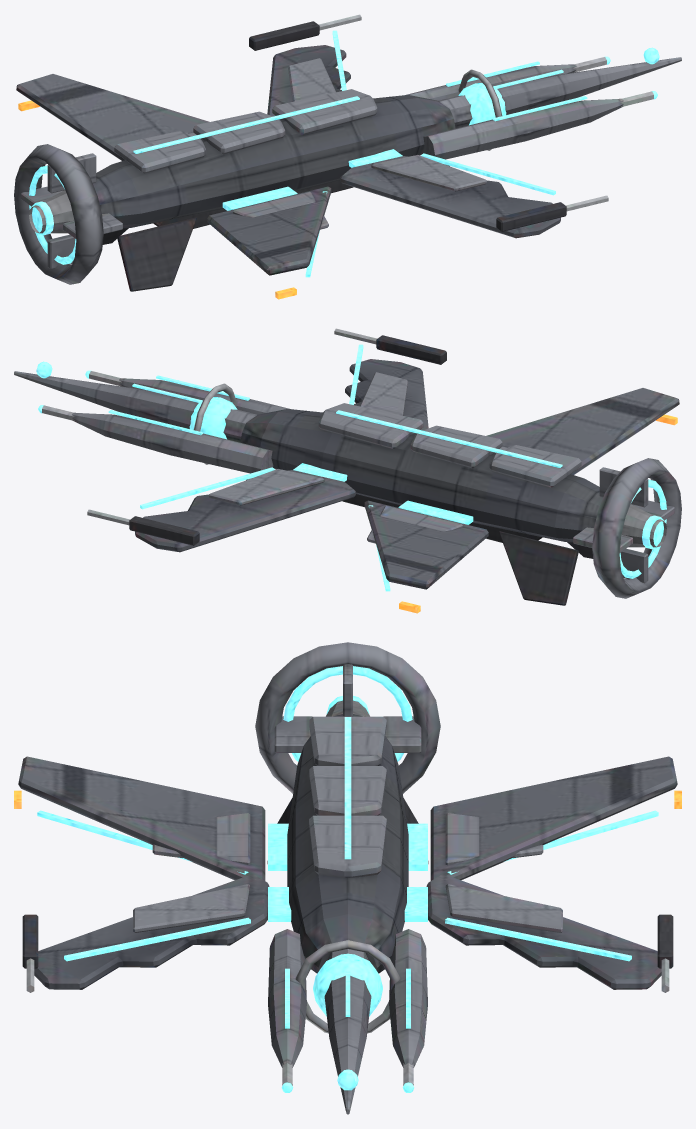
File: falcon.glb
3 views of the same model, one above another, from view 1: azimuth 30°, elevation 25°; view 2: azimuth 150°, elevation 25°; view 3: azimuth 270°, elevation 25° (orthographic). The views are drawn at different scales.
Visible parts, largest first — view 1: TerranHornet; view 2: TerranHornet; view 3: TerranHornet.
Part boxes in pixels (x1,y1,x2,y2): TerranHornet: (14, 14, 681, 299); TerranHornet: (14, 328, 681, 613); TerranHornet: (14, 642, 681, 1114).
Size of the model in its own units: 9.8 by 1.97 by 6.84.
1 material, 1 textured.
